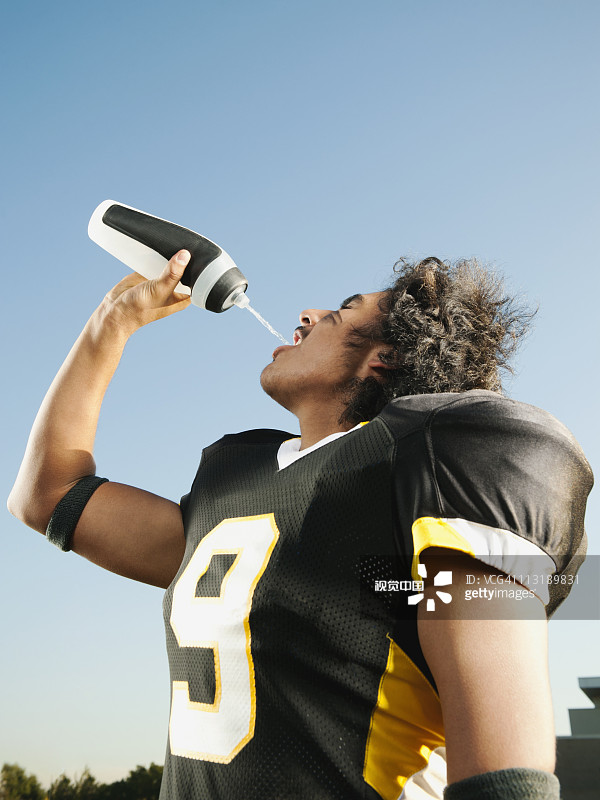no-phone: (92, 204, 211, 347)
